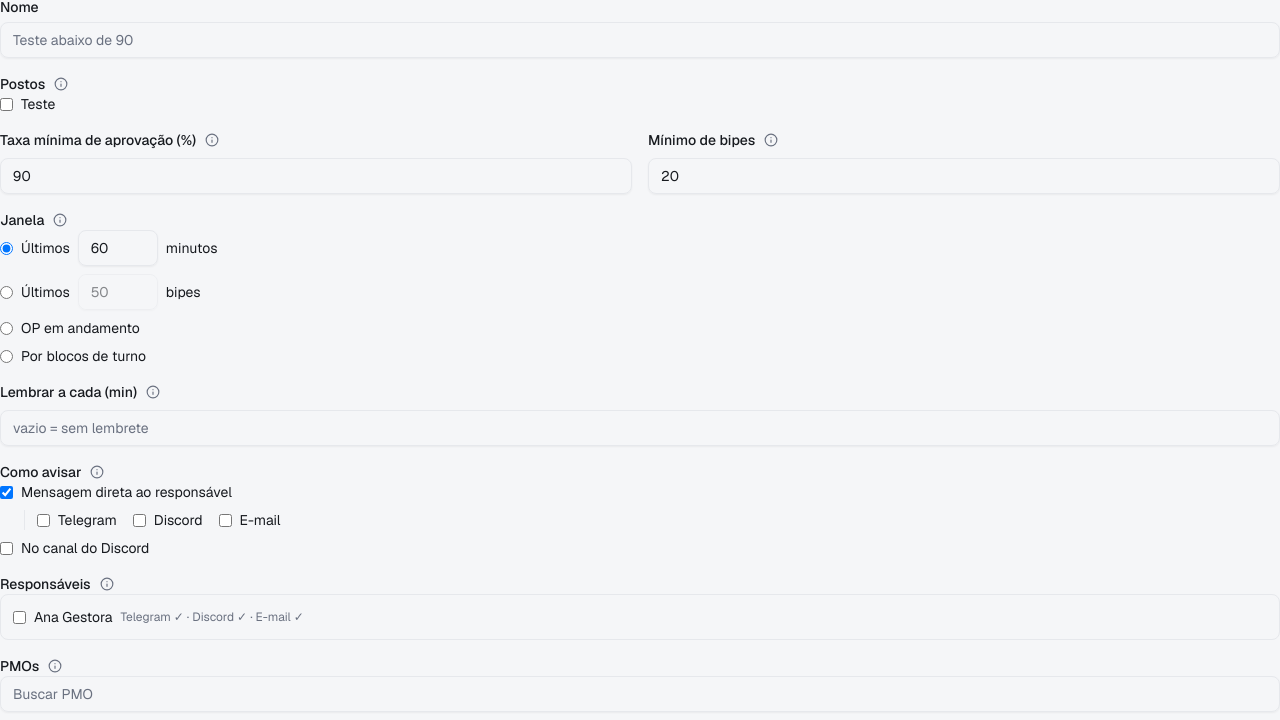
Test: RegraForm — o aviso da sobra › o aviso é por intervalo: só o que sobra aparece
This screenshot has width=1280, height=720.
Click the radio button labelled "Por blocos de turno". click: click(6, 356)
box: [0, 350, 13, 362]
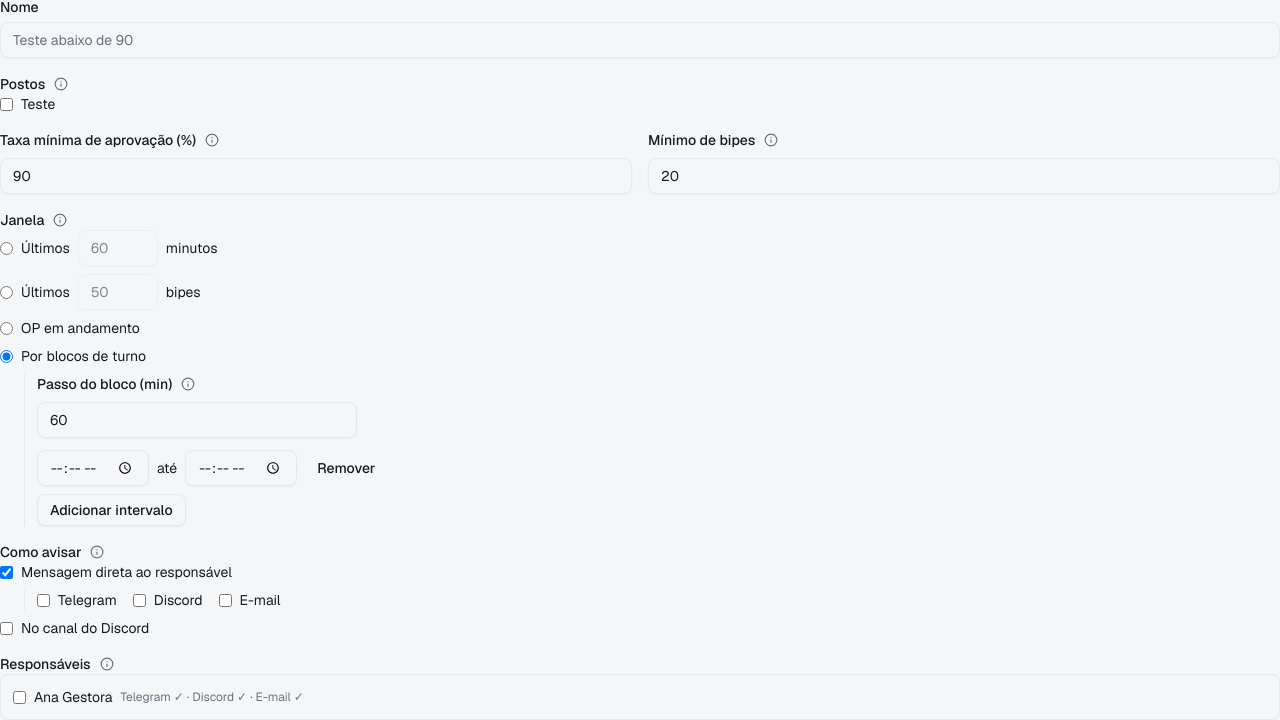
Type "07:00" into the time field named "Início do intervalo 1". click: (93, 468)
box: [37, 450, 149, 486]
Type "12:00" into the time field named "Fim do intervalo 1". click: (241, 468)
box: [185, 450, 297, 486]
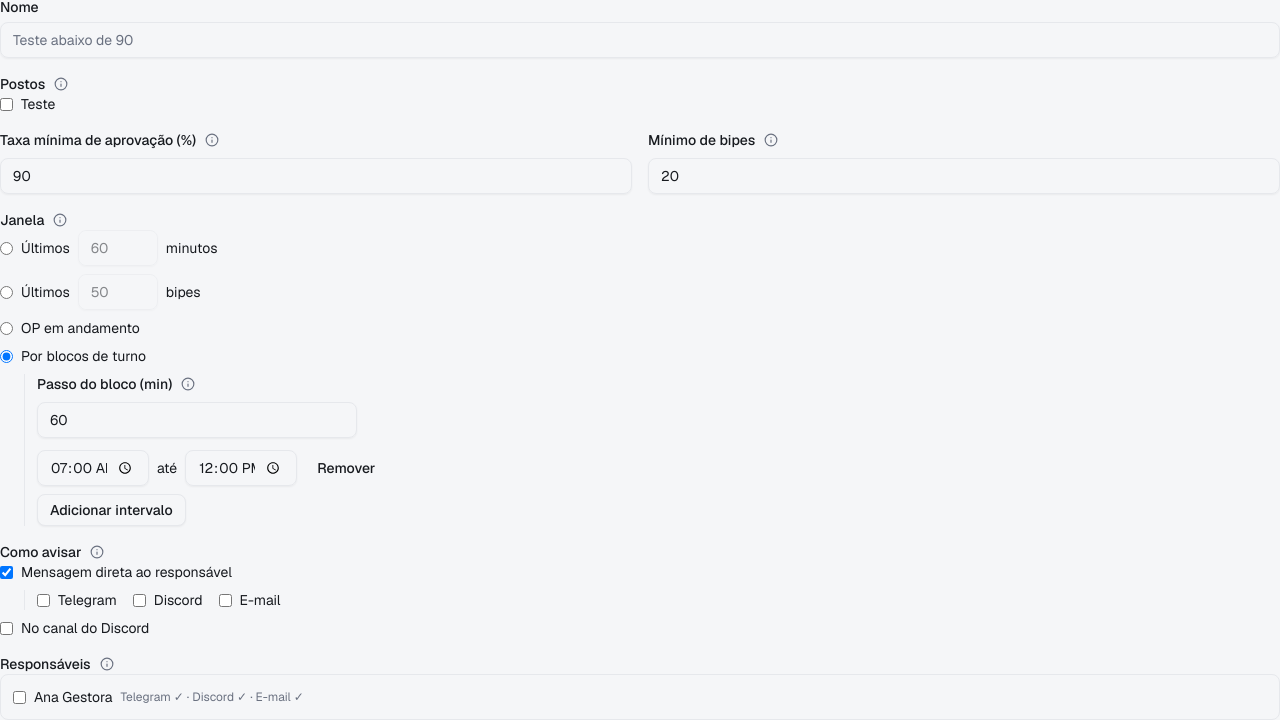
Click the button "Adicionar intervalo". click: click(111, 510)
box: [37, 494, 186, 526]
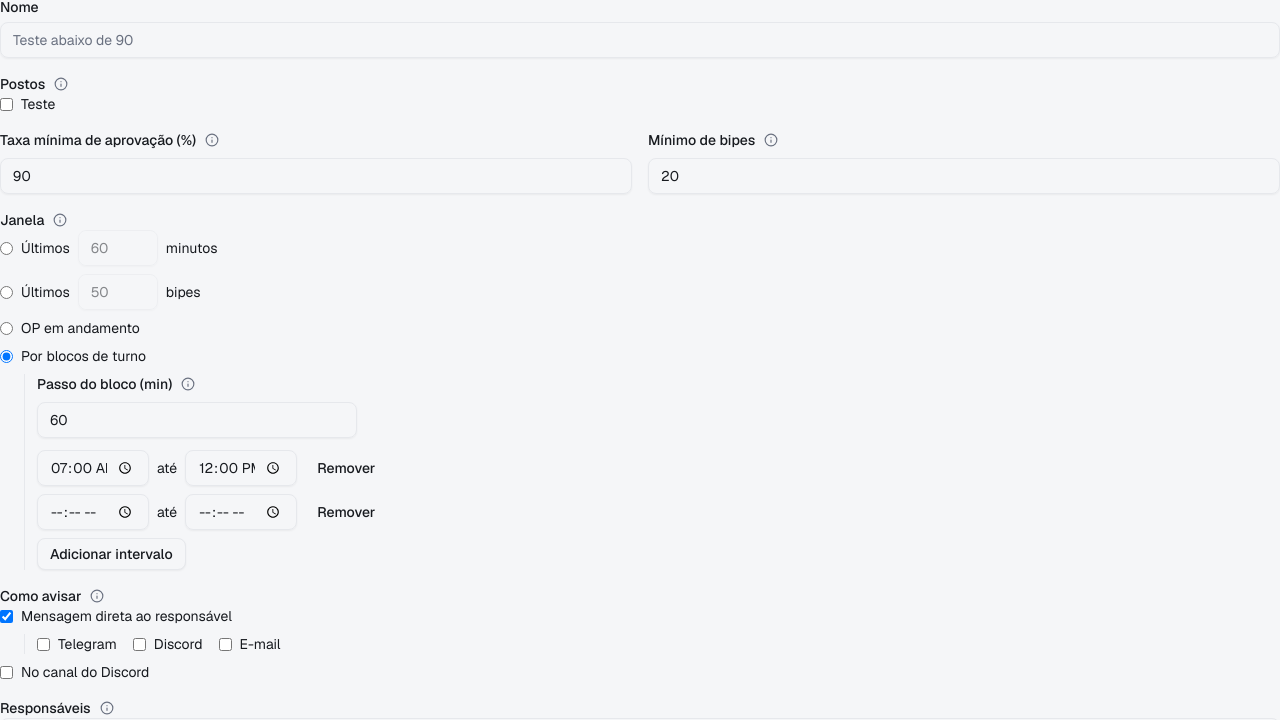
Type "13:30" into the time field named "Início do intervalo 2". click: (93, 512)
box: [37, 494, 149, 530]
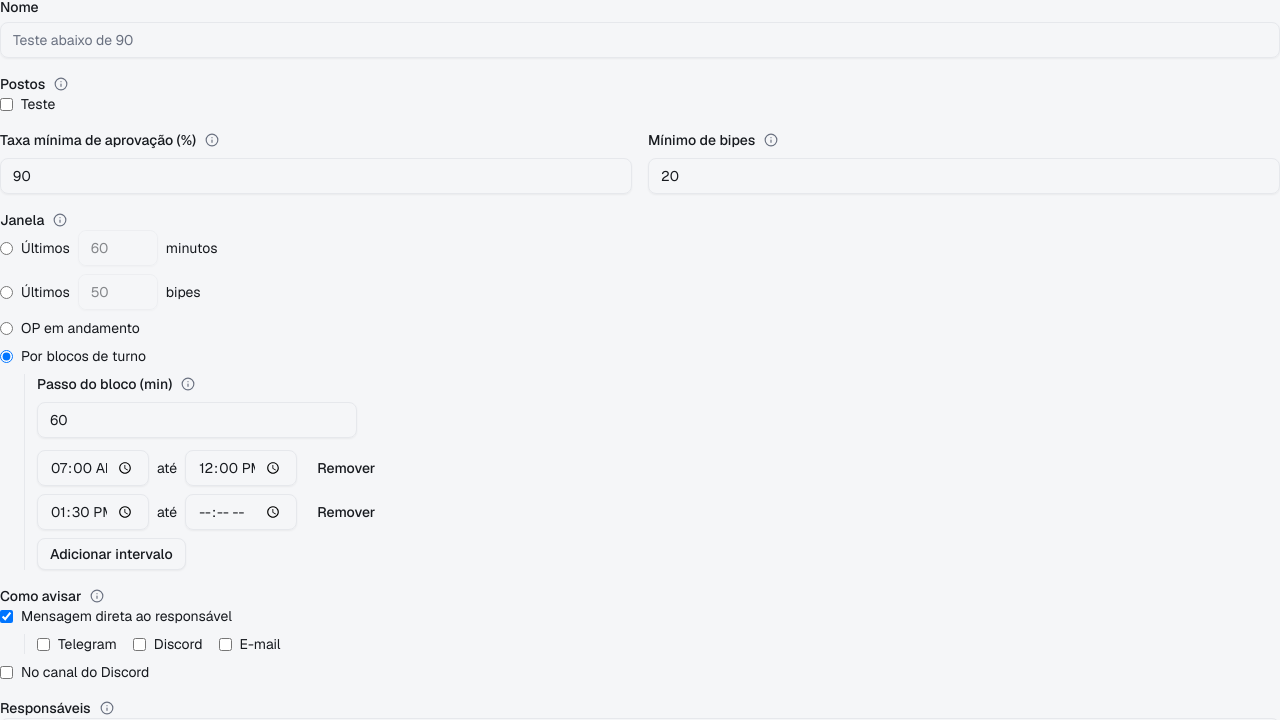
Type "17:30" into the time field named "Fim do intervalo 2". click: (241, 512)
box: [185, 494, 297, 530]
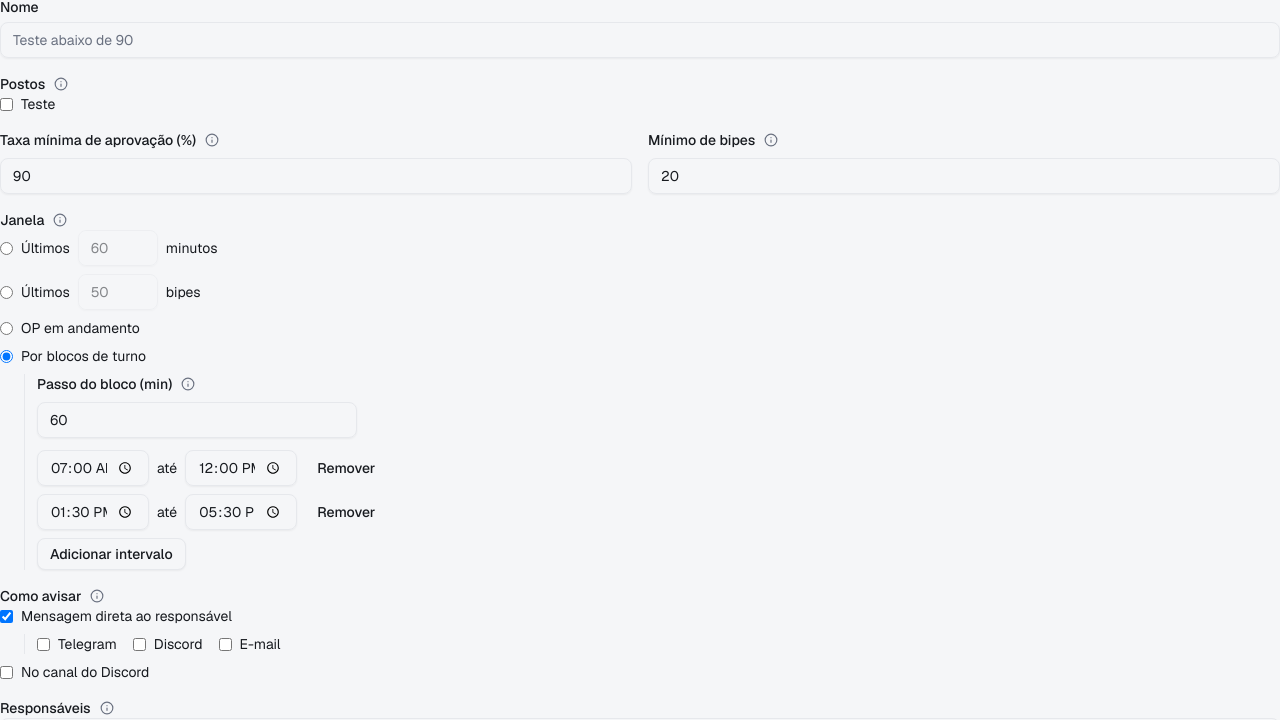
Replace the text in the field labelled "Passo do bloco (min)" with "180". click: (197, 420)
box: [37, 402, 357, 438]
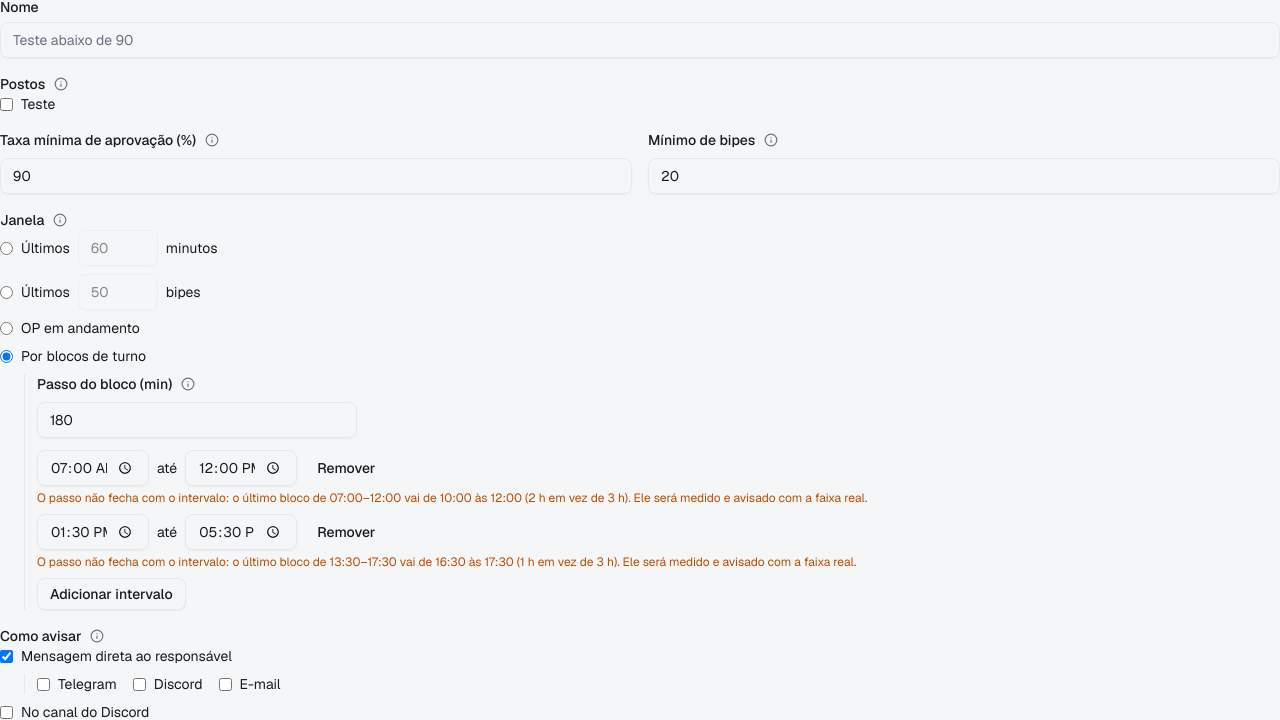
Now the number of messages is 2, box [37, 490, 867, 506]; [37, 554, 856, 570]
Now the 1st message shows "o último bloco de 07:00–12:00 vai de 10:00 às 12:00 (2 h em vez de 3 h)", box [37, 490, 867, 506]
Now the 2nd message shows "o último bloco de 13:30–17:30 vai de 16:30 às 17:30 (1 h em vez de 3 h)", box [37, 554, 856, 570]
